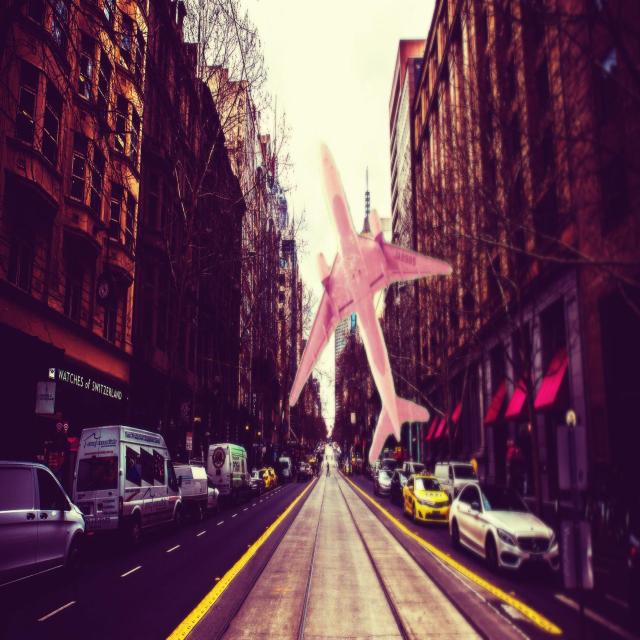airplane: (288, 140, 453, 464)
